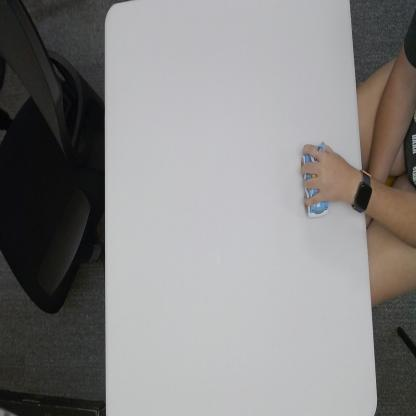Car: (302, 145, 330, 221)
Hand: (301, 141, 353, 205)
